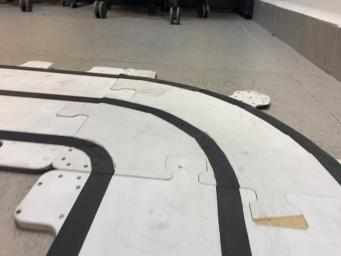street: (0, 62, 341, 256), (0, 62, 341, 256), (0, 62, 341, 256), (0, 62, 341, 256), (0, 62, 341, 256), (0, 62, 341, 256)
